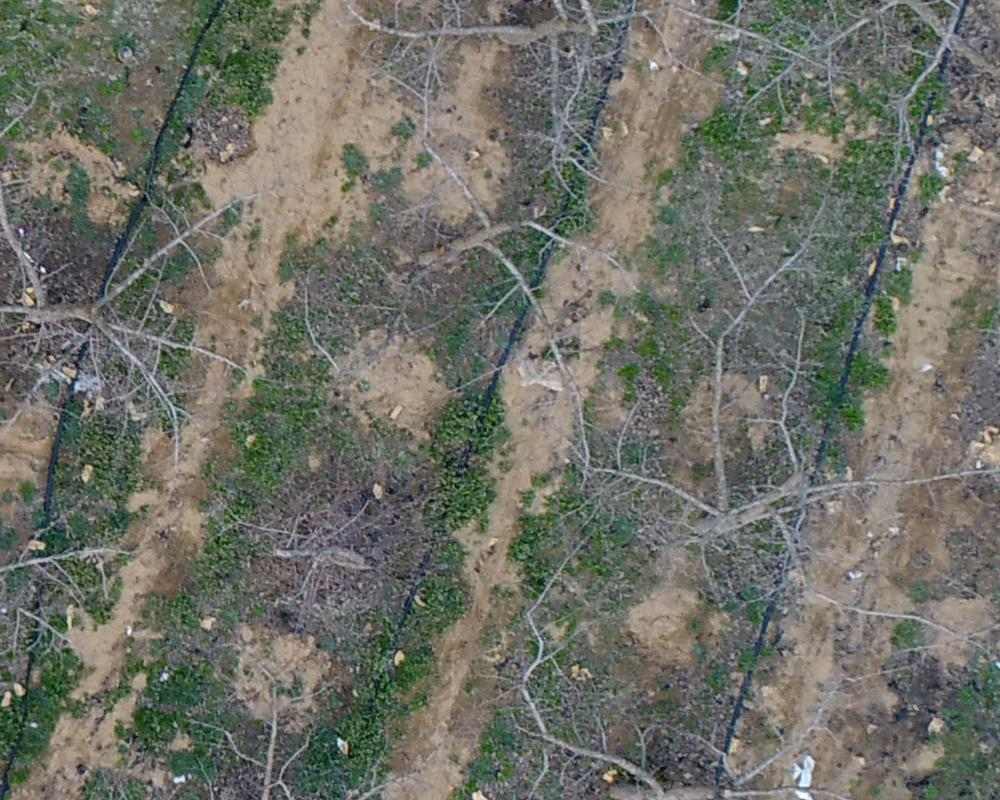apple: (595, 225, 979, 650), (300, 53, 621, 456), (475, 535, 949, 790), (10, 10, 265, 477), (347, 10, 696, 206), (211, 486, 414, 626)
